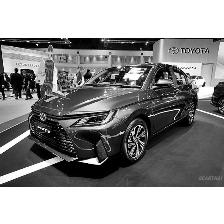NON-EV: (30, 60, 198, 174)
